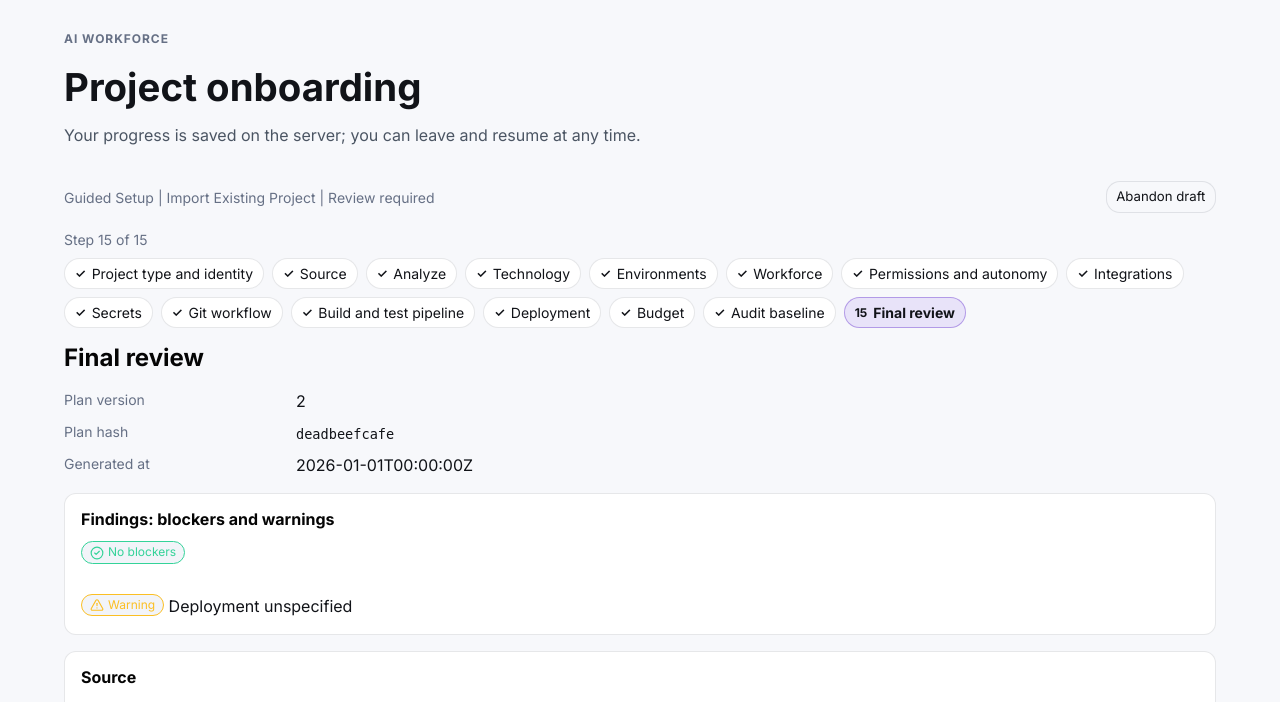
Test: Wizard: plan steps › records an override with a differs-from-recommendation tag and asks to regenerate
The image size is (1280, 702).
Step 1. Click the button "✓ Technology" → (523, 274), box [465,258,581,289]
(page scrolled)
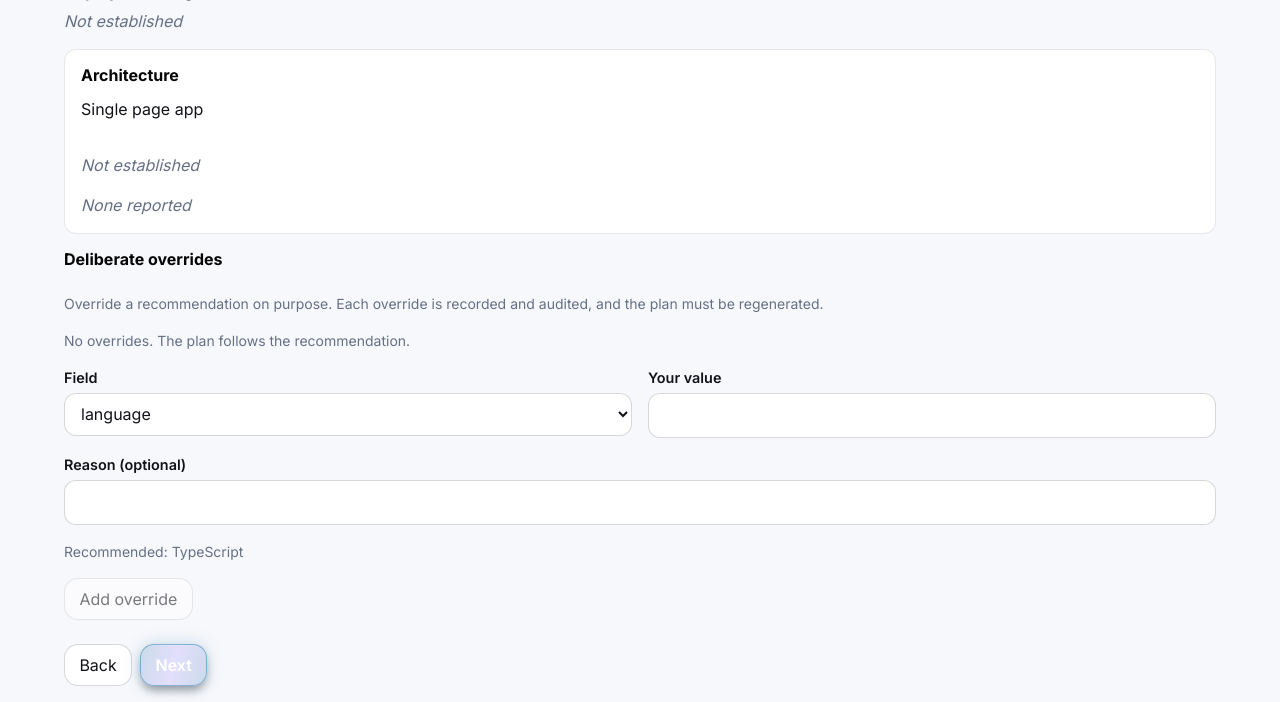
Step 2. Type "Go" into the field labelled "Your value" → (932, 416), box [648,393,1216,438]
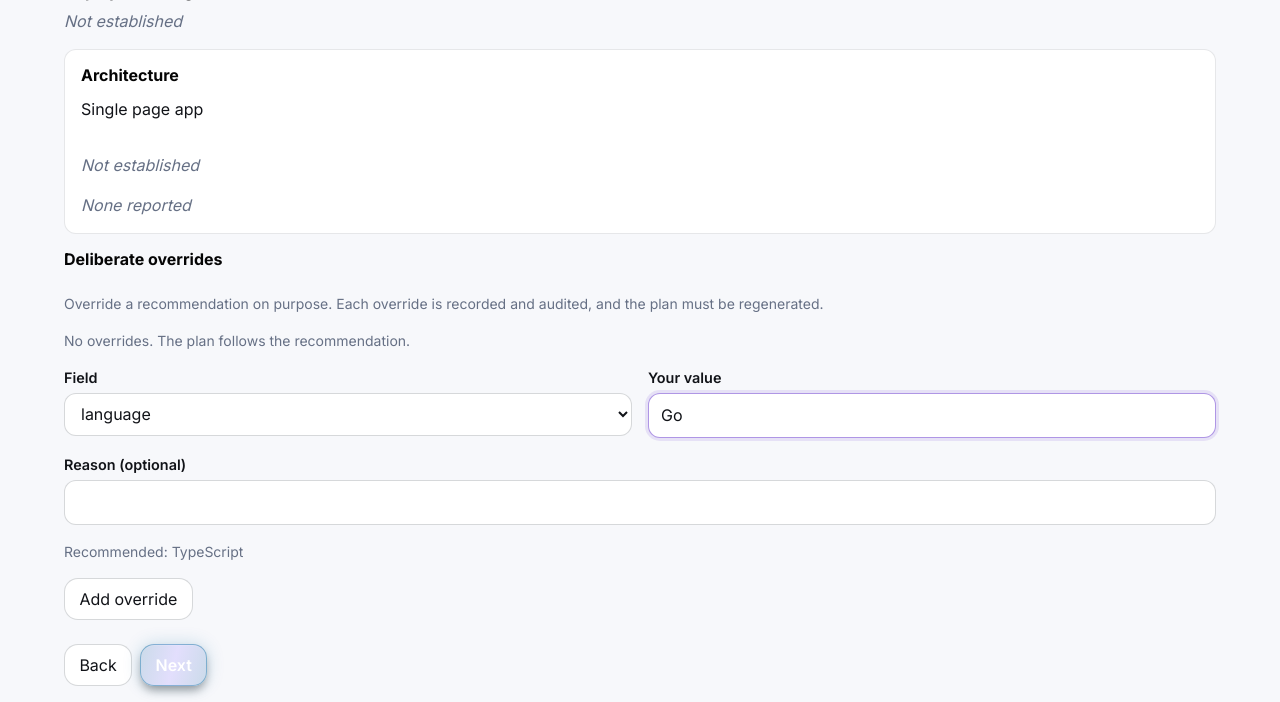
Step 3. Click the button "Add override" → (128, 599), box [64,578,193,620]
(page scrolled)
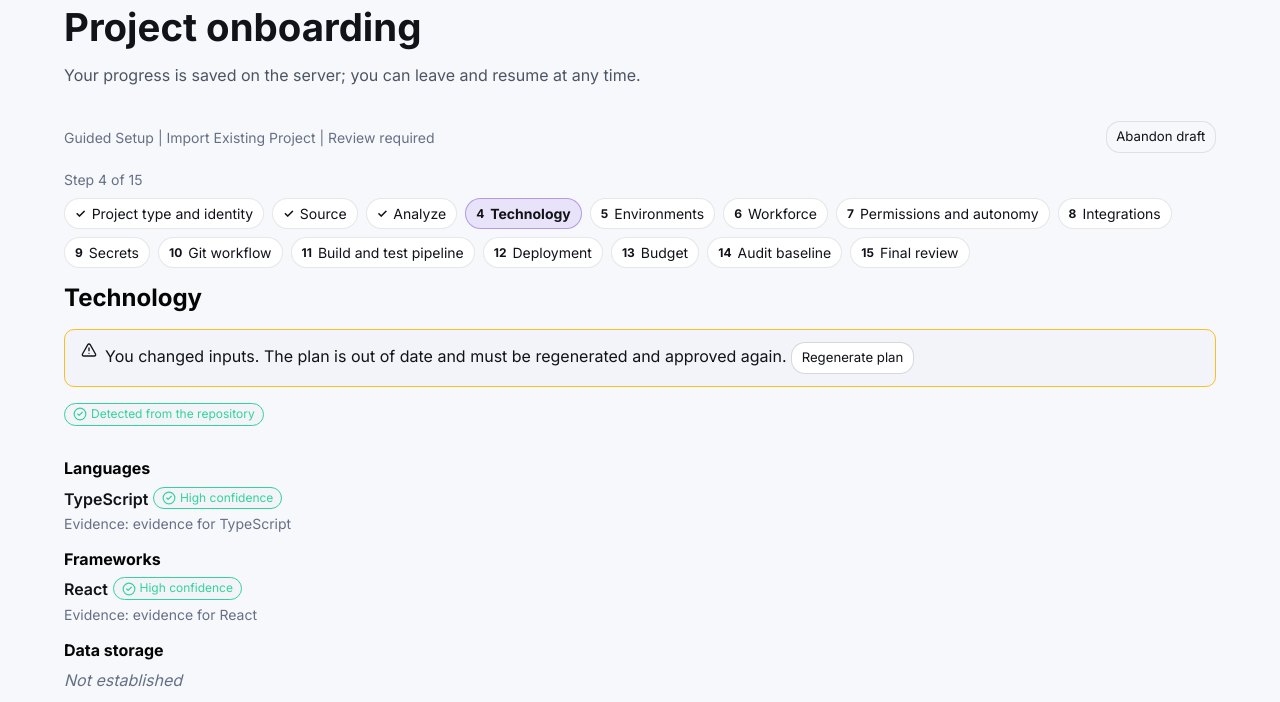
expect the text "plan is out of date" is shown: met, box [105,346,786,366]
